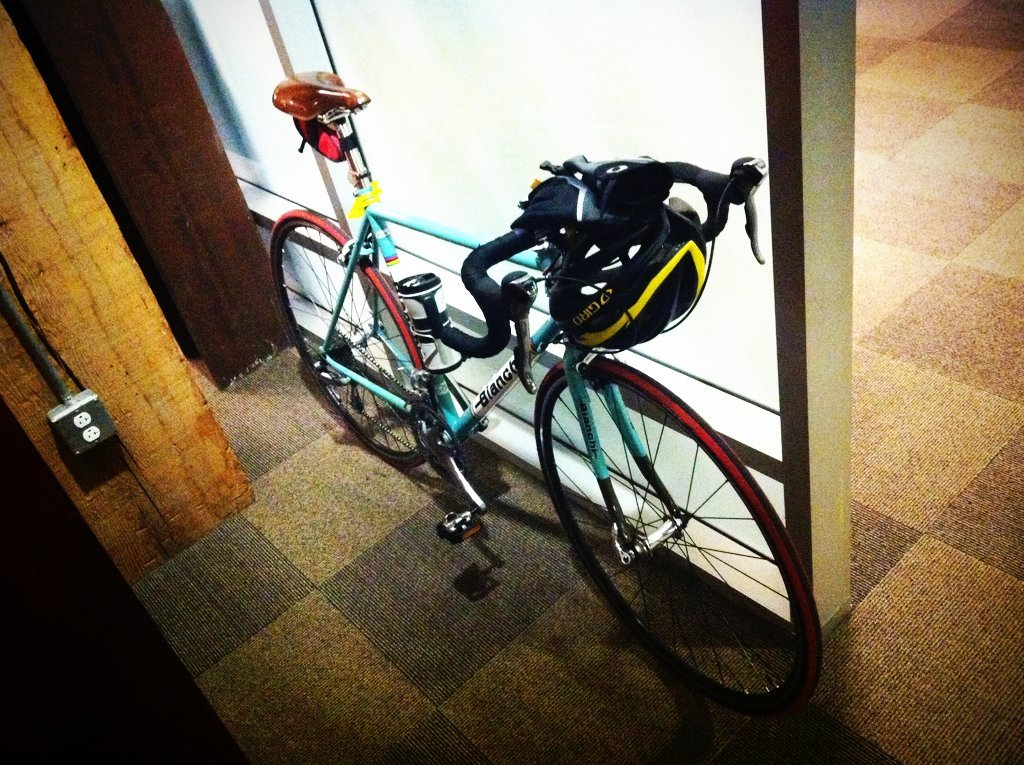Bike: (248, 173, 786, 725)
